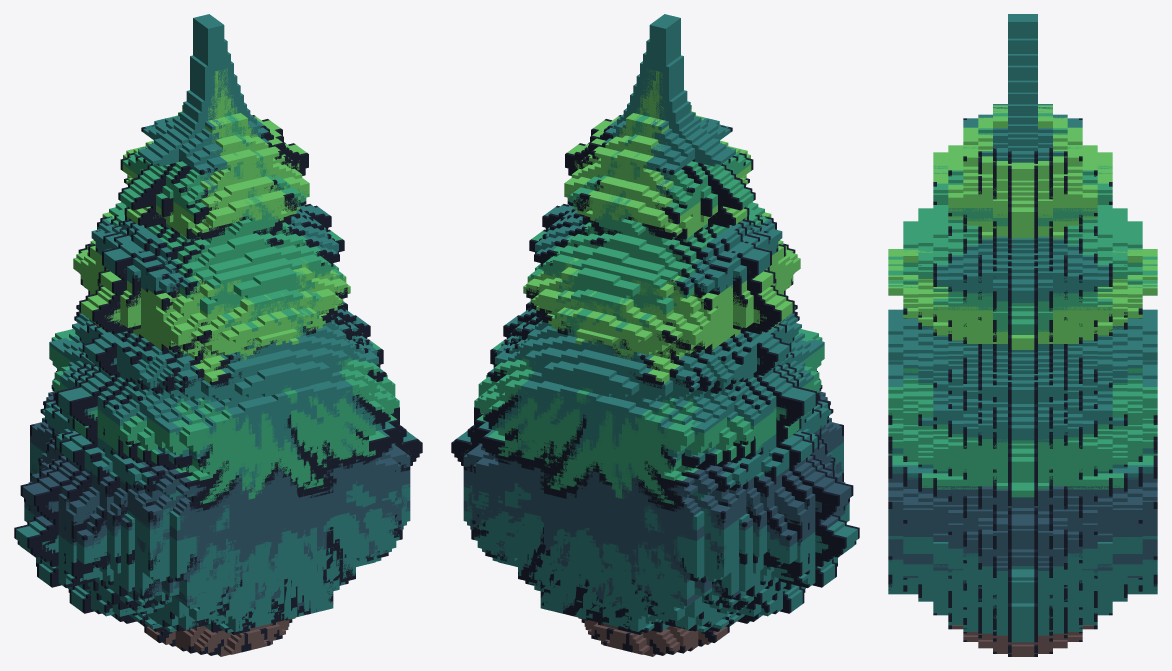
Rendered from Tree1.glb.
The picture shows the model from 3 angles, left to right: view 1: azimuth 30°, elevation 25°; view 2: azimuth 150°, elevation 25°; view 3: azimuth 270°, elevation 25°; orthographic projection.
Parts seen in each view (by area): view 1: q0, q6, q1, q7, q2, q5, q3, q4; view 2: q0, q6, q1, q7, q5, q2, q3, q4; view 3: q2, q3, q1, q4, q0, q7, q5, q6.
Boxes of the visible parts, x1,y1,x2,y2 form: q0: (14,16,416,656); q6: (14,17,402,634); q1: (32,15,419,653); q7: (24,123,394,632); q2: (35,15,422,653); q5: (20,66,403,631); q3: (112,14,410,633); q4: (55,65,419,623); q0: (457,16,859,656); q6: (471,17,859,634); q1: (454,15,841,653); q7: (485,117,849,629); q5: (470,66,852,632); q2: (451,15,834,651); q3: (463,14,763,632); q4: (454,67,817,623); q2: (888,18,1157,642); q3: (888,20,1157,633); q1: (888,17,1157,579); q4: (888,145,1157,633); q0: (888,15,1157,656); q7: (888,117,1157,590); q5: (888,104,1156,633); q6: (888,14,1157,587).
Size of the model in its own units: 121 by 183 by 72.
1 material, 1 textured.
